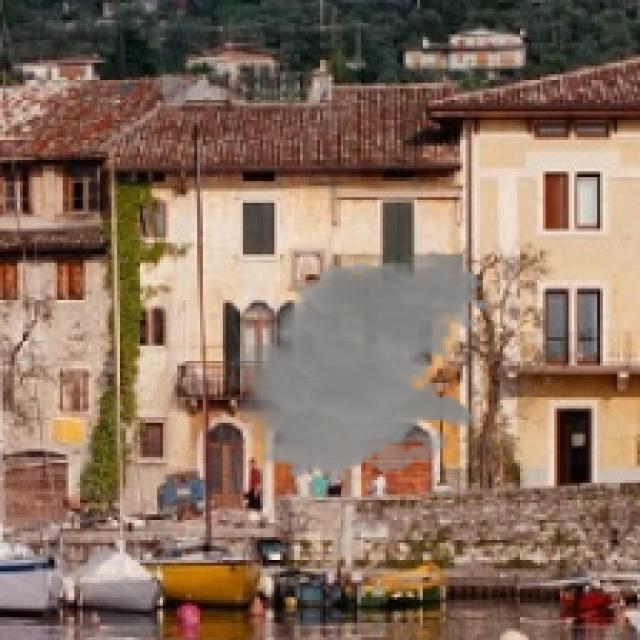smoke: (223, 251, 491, 480)
